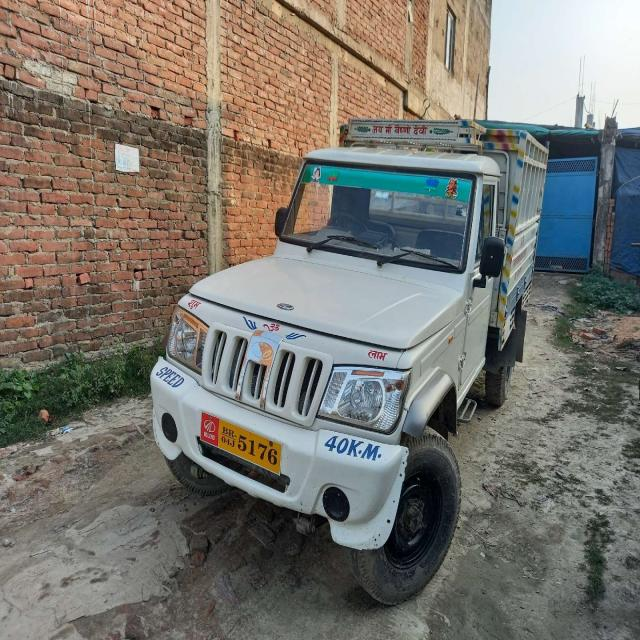light_vehicle: (152, 143, 546, 488)
